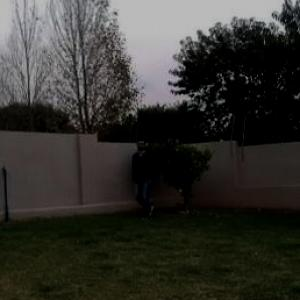follow: (133, 137, 154, 222)
